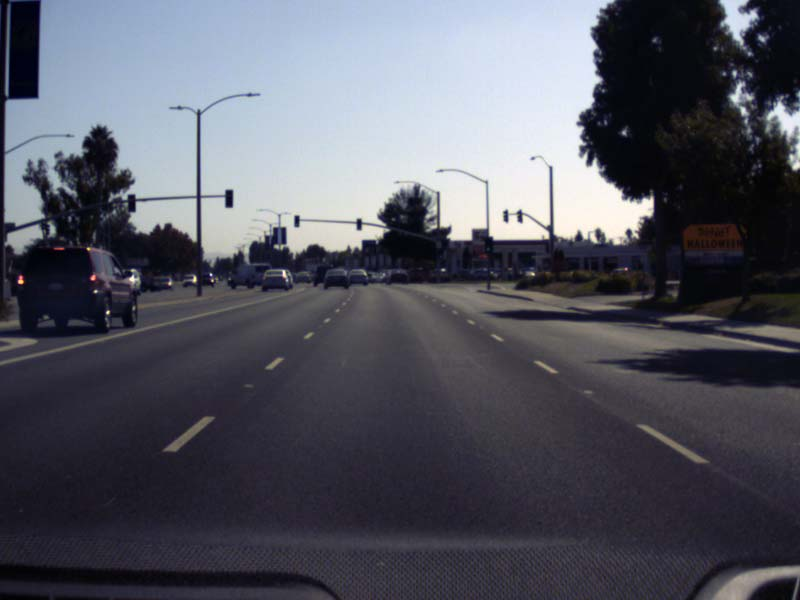Green: (356, 217, 361, 230), (484, 244, 492, 252), (293, 215, 298, 227), (438, 249, 442, 258)
